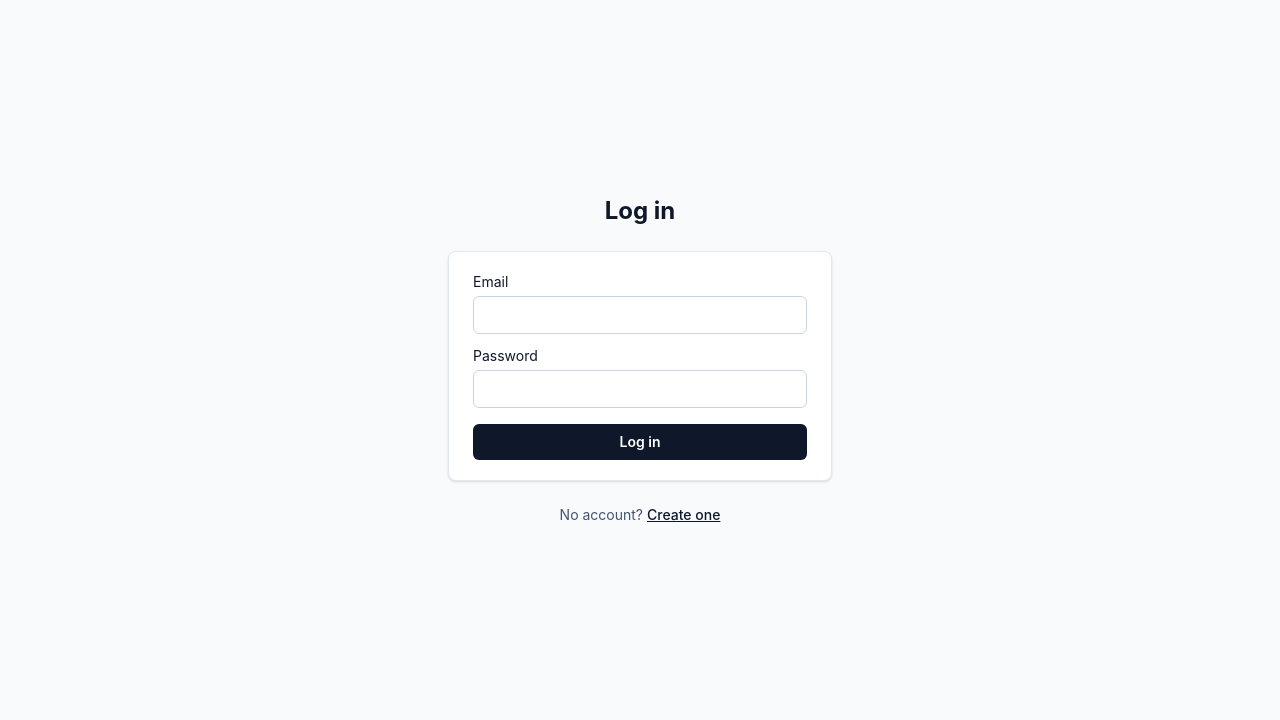
Test: login flow › logs in and lands on the authenticated home
This screenshot has width=1280, height=720.
Expected: the button "Log in" is shown, [473,424,807,460]
In the field labelled "Email": (640, 315) [473,296,807,334], type "ada@example.com"
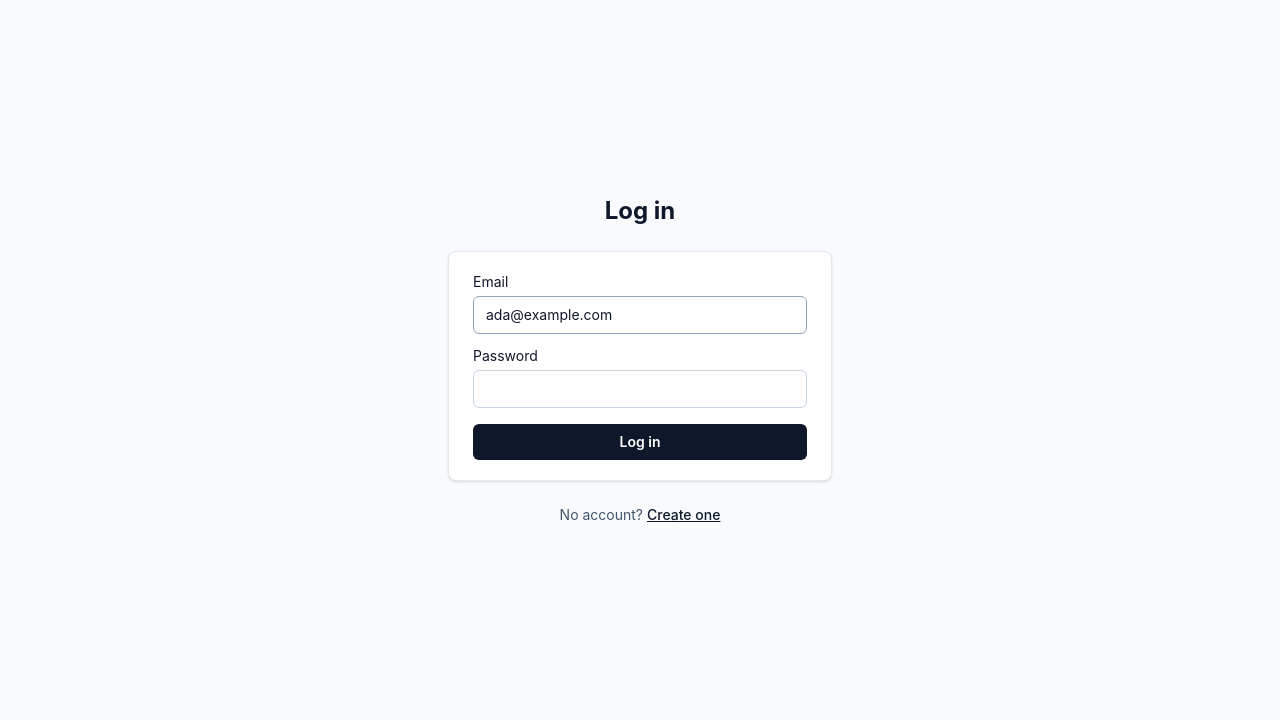
In the password field labelled "Password": (640, 389) [473,370,807,408], type "s3cure-pass-23"
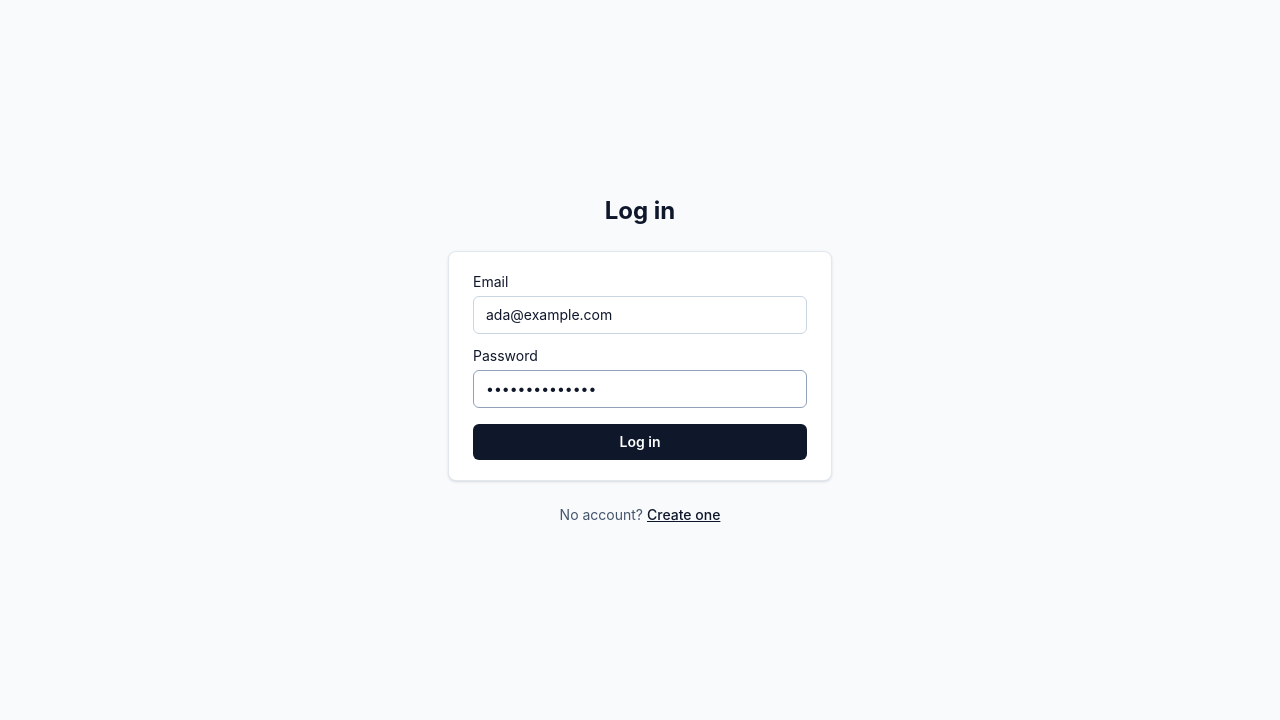
Click the button "Log in": (640, 442) [473,424,807,460]
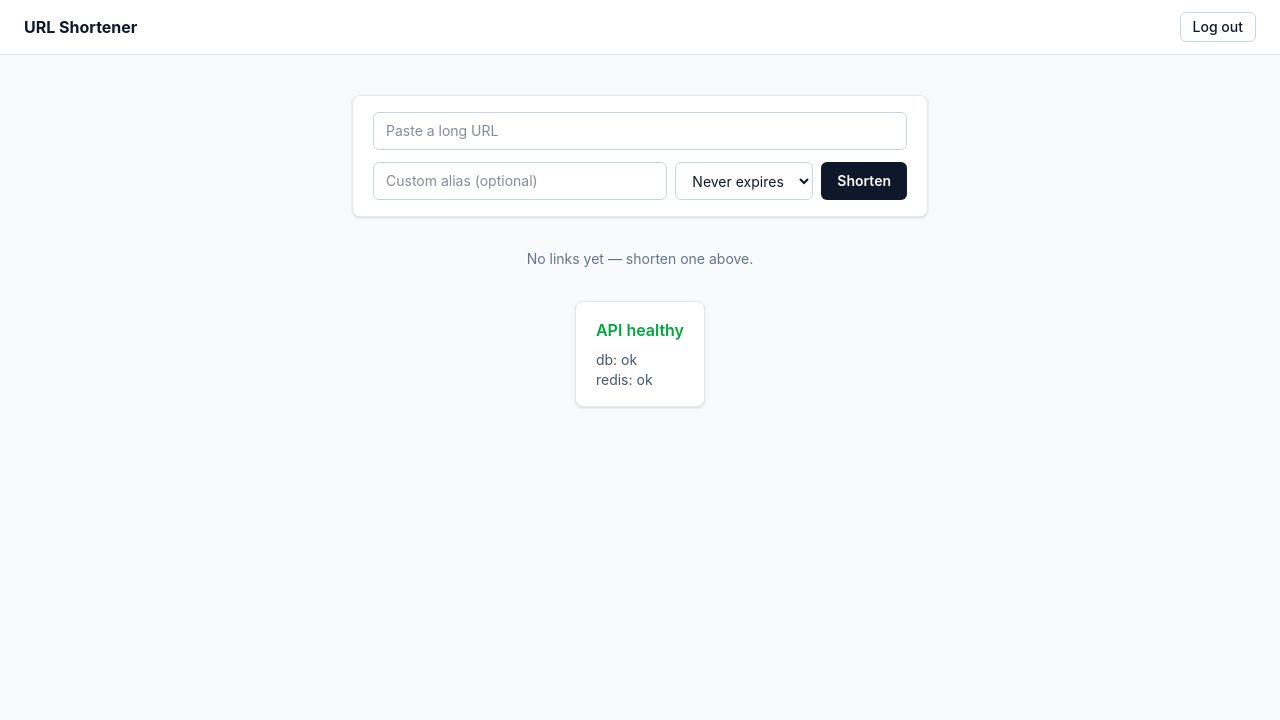
Expected: the text "No links yet — shorten one above." is shown, [527,249,753,269]
Expected: the button "Log out" is shown, [1180,12,1256,42]
